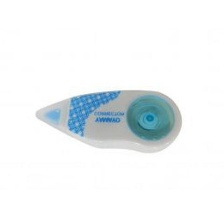correction_fluid: (32, 85, 182, 154)
